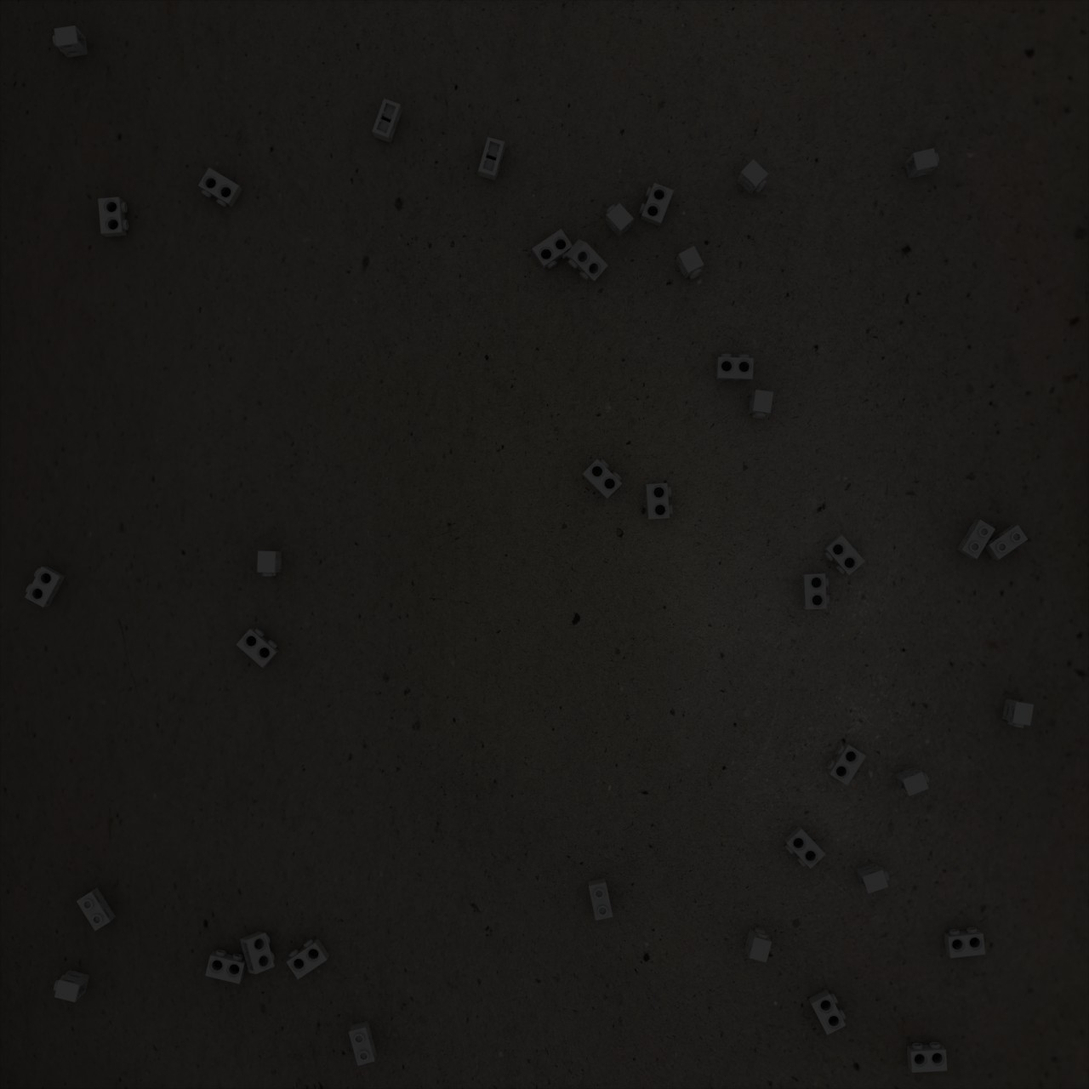lego: (286, 938, 330, 980), (198, 167, 243, 208), (565, 239, 608, 281), (784, 826, 826, 869), (826, 742, 867, 786), (76, 887, 116, 931), (808, 989, 846, 1035), (236, 628, 279, 668), (25, 566, 66, 607), (823, 535, 865, 575), (532, 229, 573, 269), (582, 459, 622, 499), (956, 520, 996, 559), (639, 183, 674, 227), (983, 525, 1028, 559), (240, 932, 275, 974), (205, 950, 248, 984), (372, 98, 403, 143), (348, 1021, 377, 1066), (944, 927, 986, 958), (98, 197, 129, 237), (907, 1042, 947, 1073), (52, 25, 88, 58), (478, 137, 505, 181), (736, 159, 769, 195), (53, 970, 90, 1002), (588, 878, 613, 921), (801, 573, 830, 610), (855, 863, 889, 894), (905, 148, 939, 179), (645, 483, 673, 520), (716, 354, 754, 381), (605, 203, 634, 238), (894, 767, 929, 796), (744, 927, 772, 963), (1002, 698, 1034, 728), (675, 246, 704, 279), (748, 389, 774, 419), (257, 551, 282, 576)
